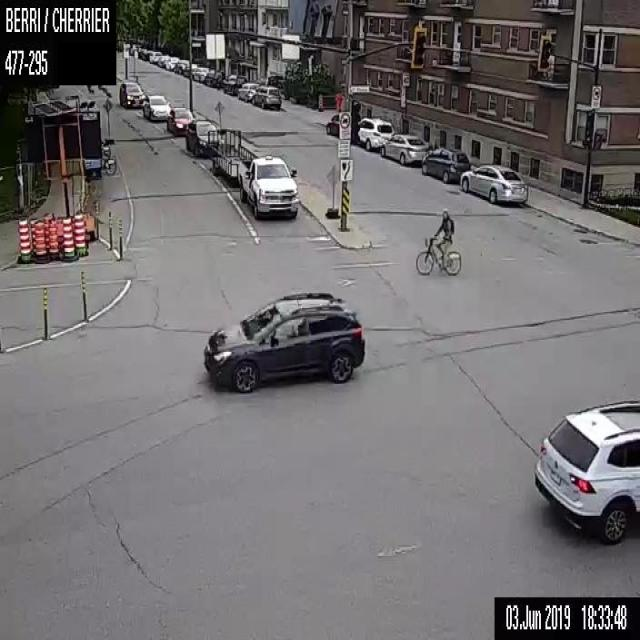construction: (20, 100, 99, 243), (100, 97, 114, 143), (326, 164, 338, 217), (18, 216, 30, 260), (74, 212, 86, 254), (62, 217, 74, 256), (34, 220, 46, 258), (47, 219, 57, 258), (80, 268, 87, 320), (29, 217, 37, 256), (213, 100, 224, 125), (43, 214, 51, 248), (118, 213, 122, 259), (43, 286, 46, 338), (107, 209, 111, 248), (95, 199, 99, 236)
cyclist: (414, 208, 461, 276)
vehicle: (203, 292, 364, 394), (533, 397, 639, 548), (206, 128, 298, 219), (460, 164, 527, 203), (420, 147, 470, 182), (184, 118, 223, 156), (380, 133, 428, 163), (357, 116, 394, 151), (166, 106, 195, 132), (142, 94, 170, 120), (251, 85, 281, 109), (118, 81, 145, 107), (222, 74, 246, 94), (238, 82, 258, 100), (202, 72, 222, 88), (326, 112, 338, 138), (192, 67, 206, 81), (174, 59, 186, 74), (165, 56, 176, 68), (149, 51, 160, 62), (158, 55, 168, 66), (184, 66, 188, 76)
